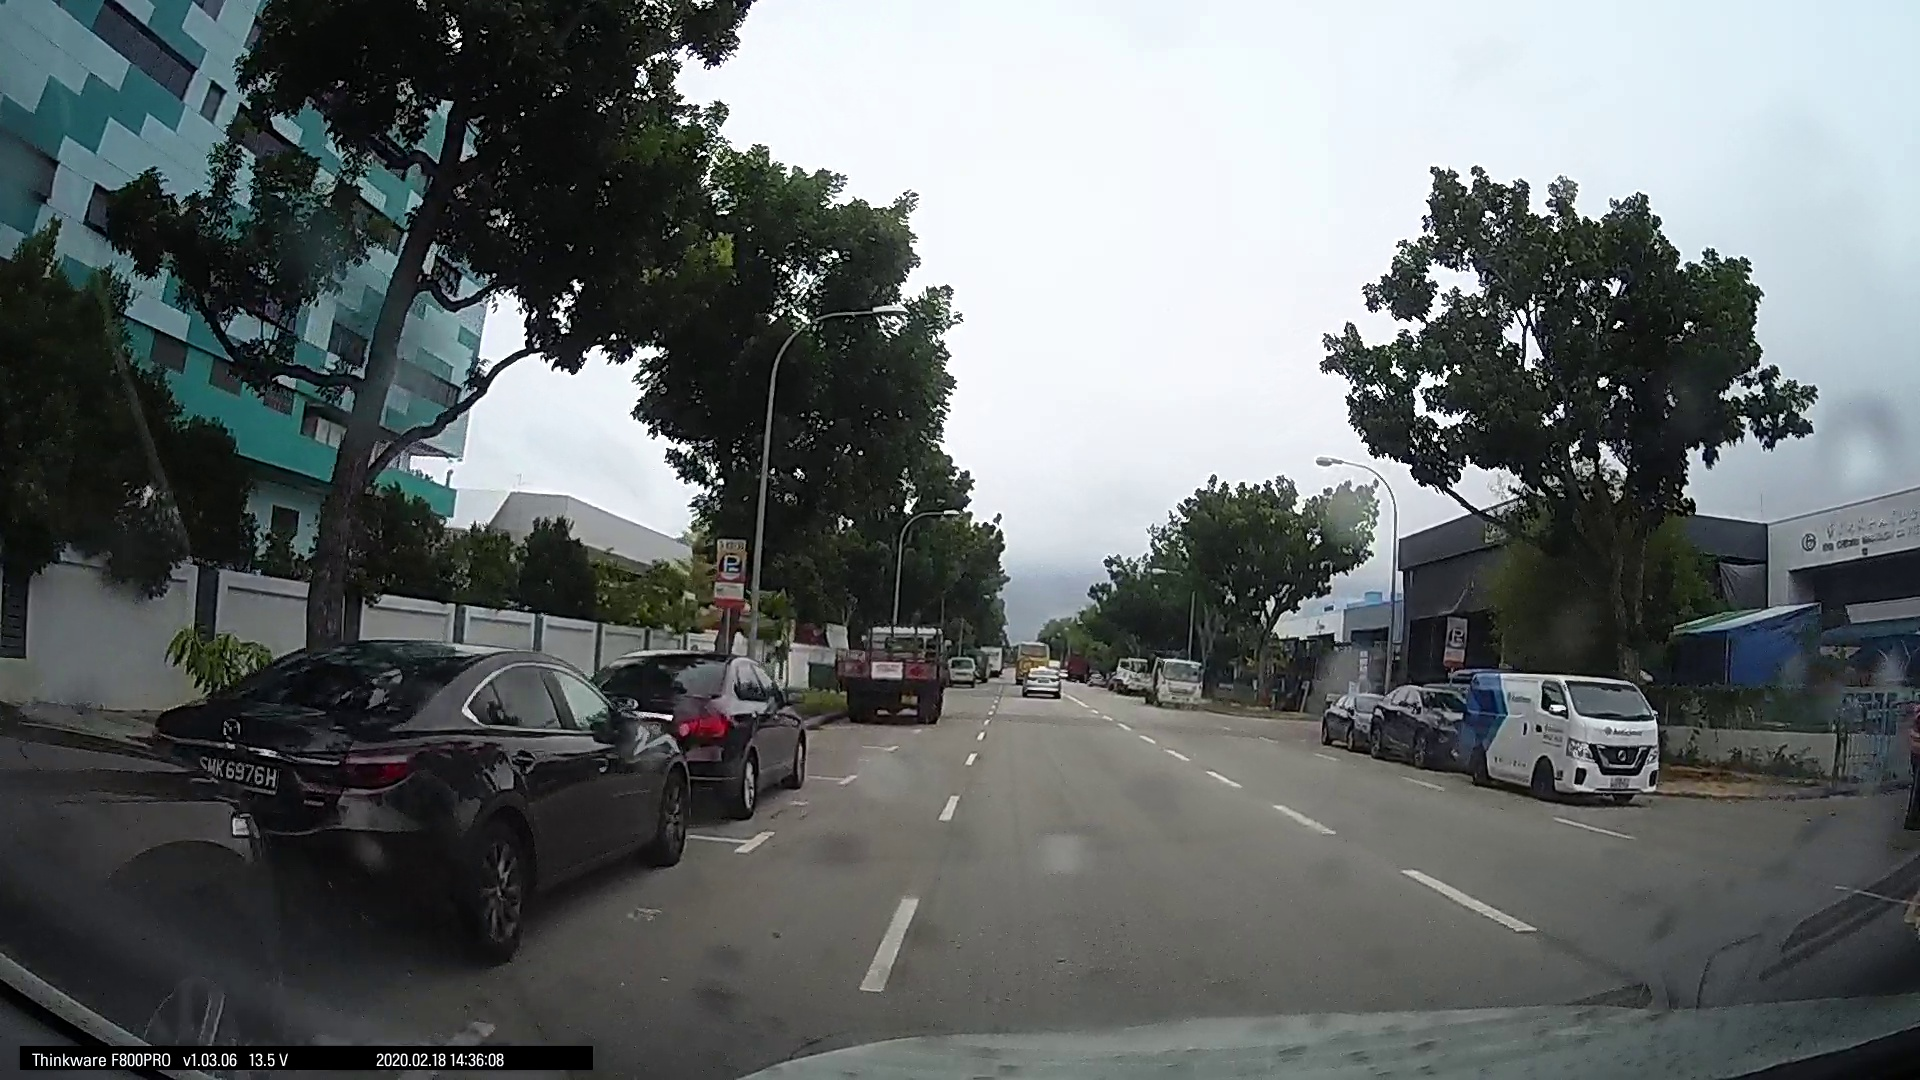Light Vehicle: (156, 630, 694, 951), (605, 642, 811, 819), (1462, 662, 1662, 808), (843, 620, 947, 720), (1373, 680, 1476, 769), (1317, 680, 1390, 752), (1139, 651, 1203, 707), (1014, 654, 1062, 696), (944, 647, 981, 684)
